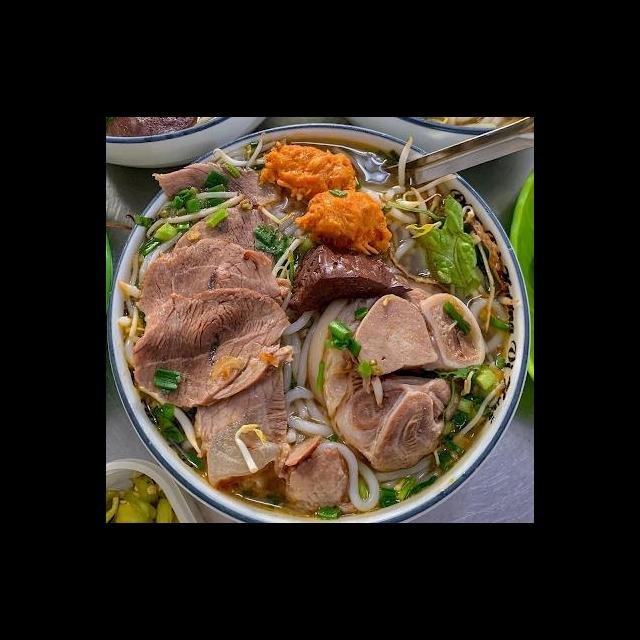bun: (271, 288, 343, 445), (310, 438, 445, 515), (355, 178, 452, 273), (465, 289, 517, 360), (265, 193, 311, 242)
bun bo: (125, 145, 515, 511)
thit bo: (128, 285, 297, 412), (132, 235, 294, 338), (189, 345, 290, 494), (169, 200, 280, 283), (270, 430, 356, 514), (145, 158, 284, 209)
